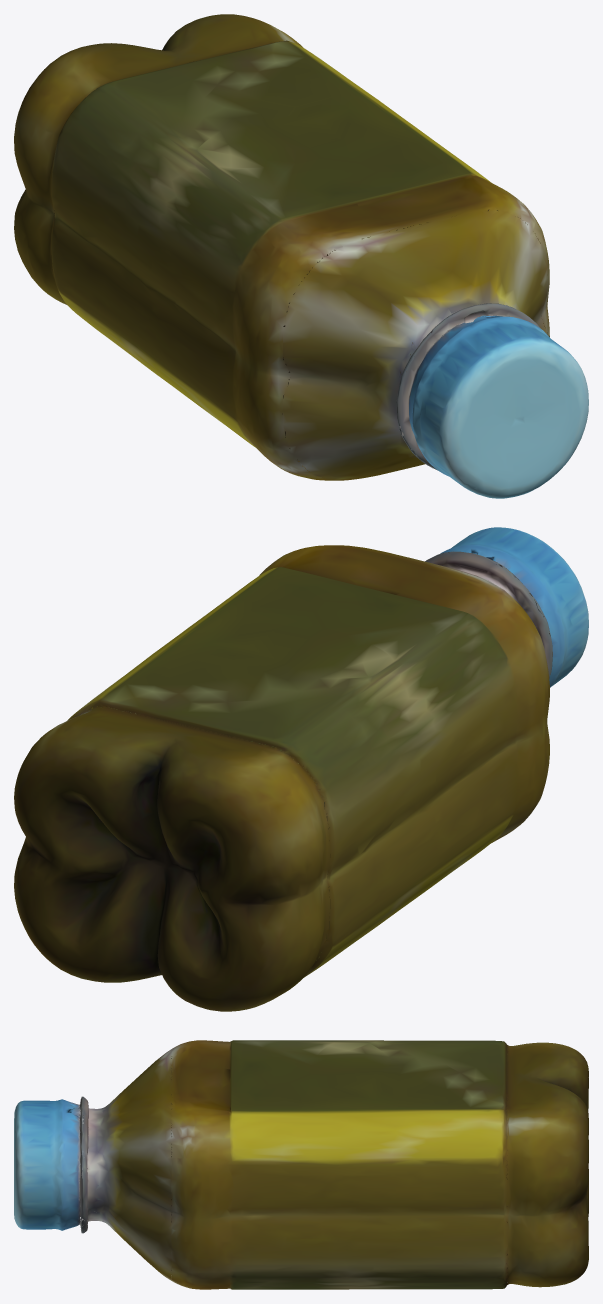
3 renders of one model, top to bottom at view 1: azimuth 30°, elevation 25°; view 2: azimuth 150°, elevation 25°; view 3: azimuth 270°, elevation 25°, orthographic. The views are drawn at different scales.
Visible parts, largest first — view 1: PrintedPaperLabel, BottleShoulderAndBase, Cap; view 2: PrintedPaperLabel, BottleShoulderAndBase, Cap; view 3: PrintedPaperLabel, BottleShoulderAndBase, Cap.
Boxes of the visible parts, <box> form: PrintedPaperLabel: <box>51,40,549,480</box>; BottleShoulderAndBase: <box>14,14,547,480</box>; Cap: <box>399,305,588,498</box>; PrintedPaperLabel: <box>67,545,549,977</box>; BottleShoulderAndBase: <box>14,545,552,1011</box>; Cap: <box>439,527,588,687</box>; PrintedPaperLabel: <box>170,1040,507,1289</box>; BottleShoulderAndBase: <box>78,1042,588,1287</box>; Cap: <box>14,1096,104,1232</box>.
Size of the model in its own units: 0.0876 by 0.07 by 0.197.
